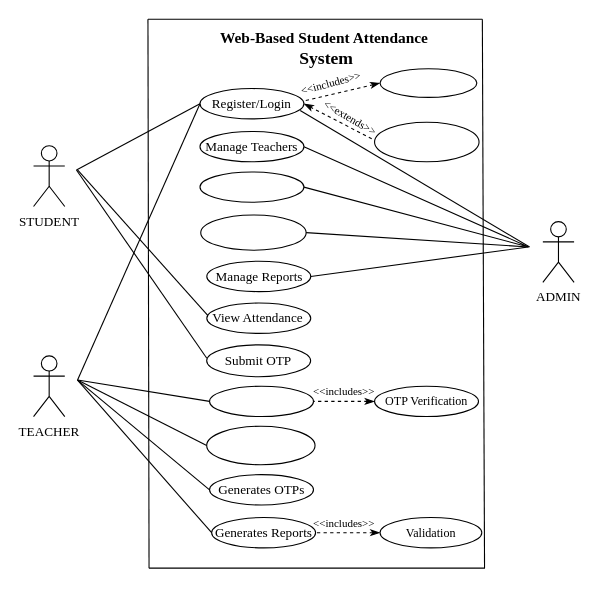
The diagram is 600 pixels wide and 589 high, and some of its shapes have lost their labels. The shapes that lost their labels are listed below. From the top down, each one's centre as x and y in pixels, then its label:
At pixel 428 82: "Authentication".
At pixel 426 141: "Authentication Error".
At pixel 251 186: "Manage Students".
At pixel 253 232: "Manage Attendances".
At pixel 261 401: "Mark Attendance".
At pixel 260 445: "View & Edit Records".
